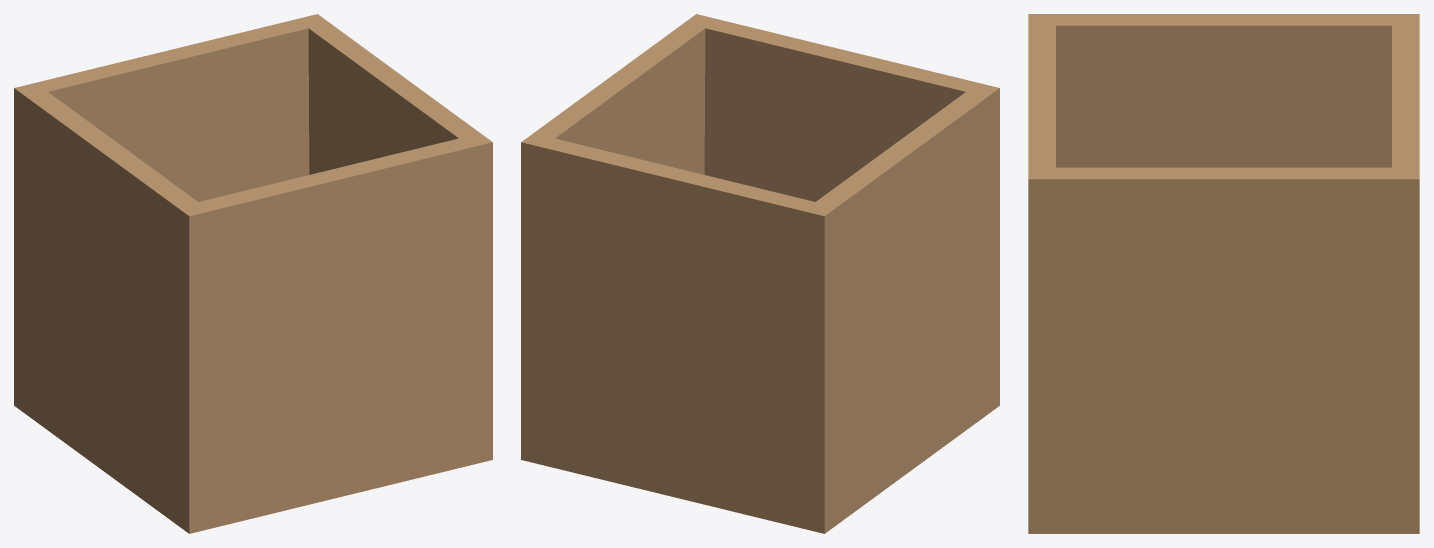
File: CaixaAbertaUnidade.fbx
The picture shows the model from 3 angles, left to right: view 1: azimuth 30°, elevation 25°; view 2: azimuth 150°, elevation 25°; view 3: azimuth 270°, elevation 25°; orthographic projection. The views are drawn at different scales.
Parts seen in each view (by area): view 1: Cube; view 2: Cube; view 3: Cube.
Boxes of the visible parts, left/top/right/bottom form: Cube: left=14, top=14, right=492, bottom=533; Cube: left=521, top=14, right=999, bottom=533; Cube: left=1028, top=14, right=1419, bottom=533.
Bounding box in the file's own units: 200 × 200 × 200.
